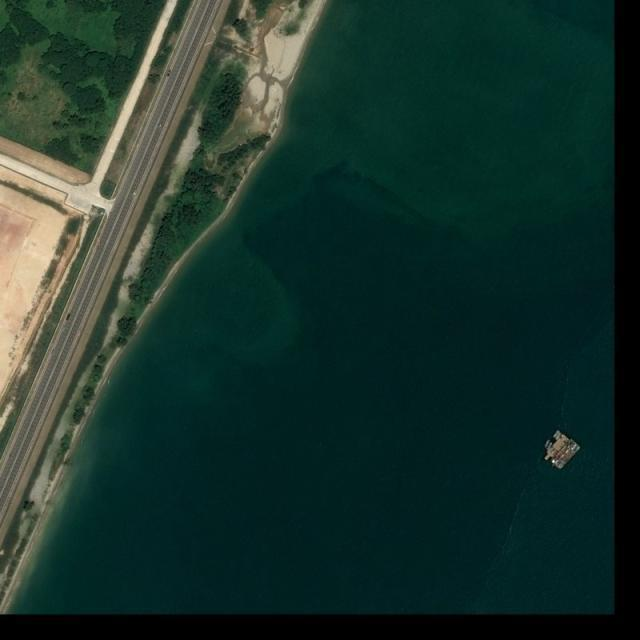ship: (551, 438, 582, 470), (542, 434, 570, 463), (552, 430, 562, 439), (555, 433, 563, 441), (546, 442, 554, 450), (545, 439, 551, 449)
